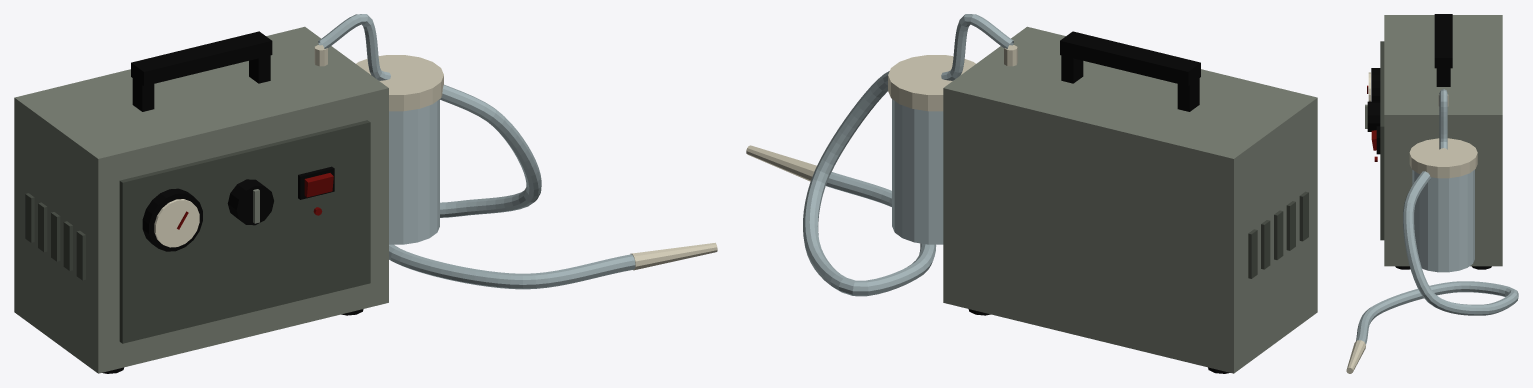
File: PortableSuctionUnit.obj
3 views of the same model, side by side, from view 1: azimuth 30°, elevation 25°; view 2: azimuth 150°, elevation 25°; view 3: azimuth 270°, elevation 25° (orthographic). The views are drawn at different scales.
Visible parts, largest first — view 1: PortableSuctionUnit; view 2: PortableSuctionUnit; view 3: PortableSuctionUnit.
Part boxes in pixels (x1,y1,x2,y2): PortableSuctionUnit: [14, 14, 717, 373]; PortableSuctionUnit: [746, 14, 1317, 373]; PortableSuctionUnit: [1346, 14, 1518, 373].
Size of the model in its own units: 0.6986 by 0.298 by 0.2473.
